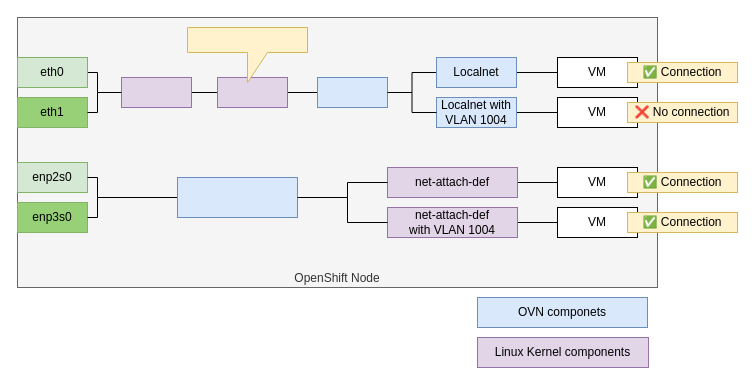
Image size: 755x385. Some labels were removed from this diagram. The centre of each missing label's shape, as x and y in pixels:
bond0: the point at 156,92
bond0.32: the point at 252,92
bond1 ovn bonding bridge: the point at 237,197
br-ex: the point at 352,92
VLAN Tagging: the point at 247,54
